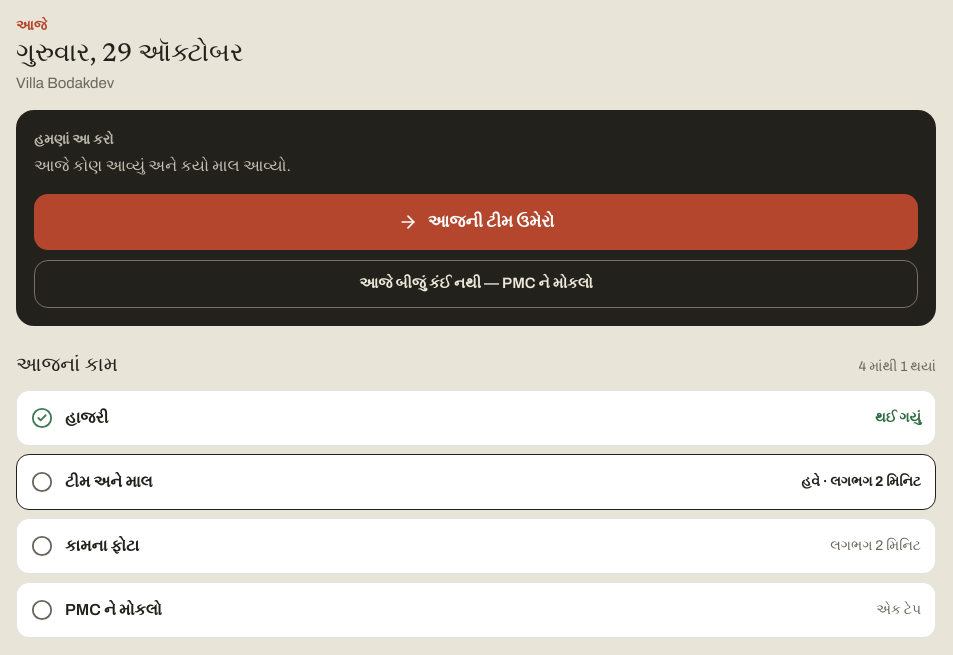
U1 — the crew step, one trade at a time › asks in the engineer's language
Click the button with test id "today-action" at (476, 222), box x1=34 y1=194 x2=918 y2=250
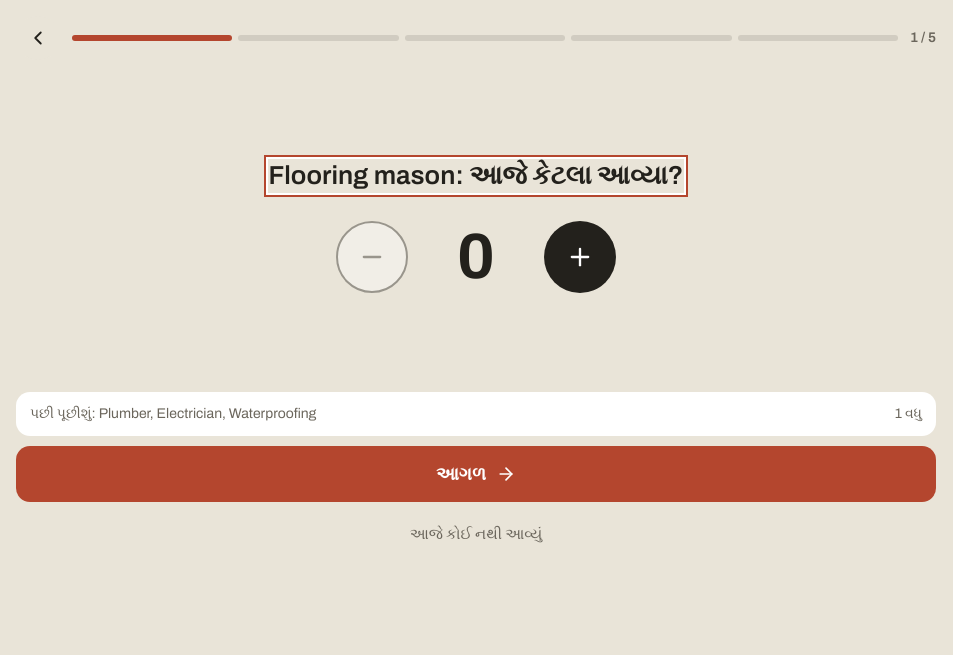
Now the button with test id "crew-nobody" reads "આજે કોઈ નથી આવ્યું", box x1=394 y1=512 x2=558 y2=556
